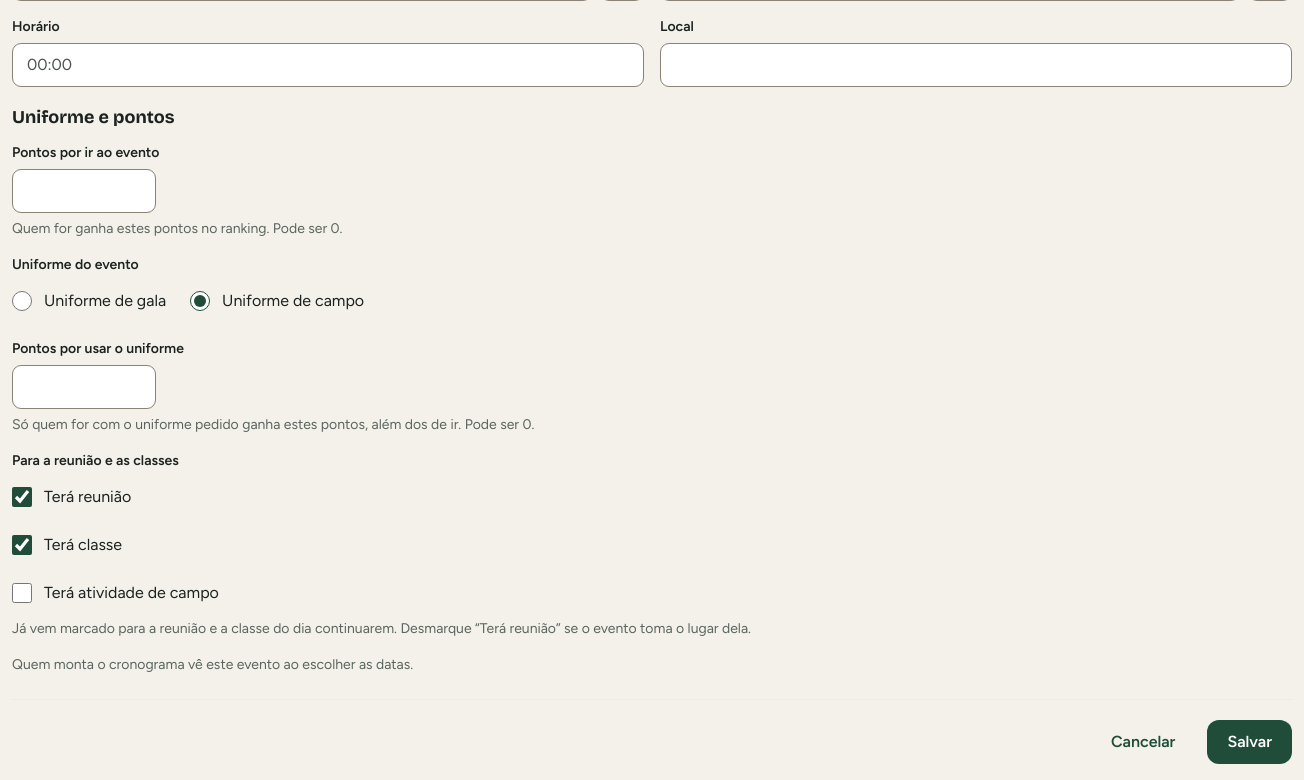
Evento especial · formulário novo › a frase do instrutor só aparece com “Terá classe” desmarcada
This screenshot has width=1304, height=780.
(page scrolled)
Click the checkbox labelled "Terá classe": (22,545) [12,535,32,555]
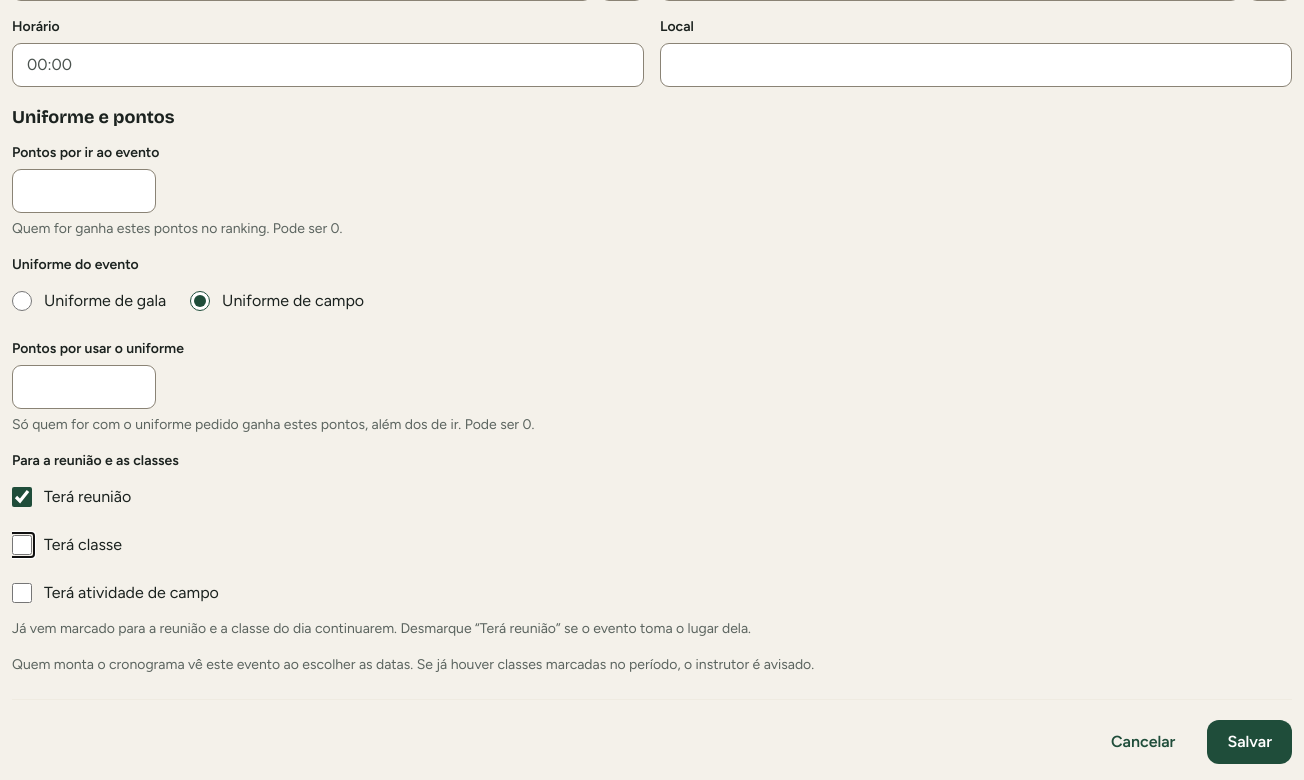
Expected: the text "Se já houver classes marcadas no período, o instrutor é avisado." is shown, [12,656,814,673]
Click the checkbox labelled "Terá classe": (22,545) [12,535,32,555]
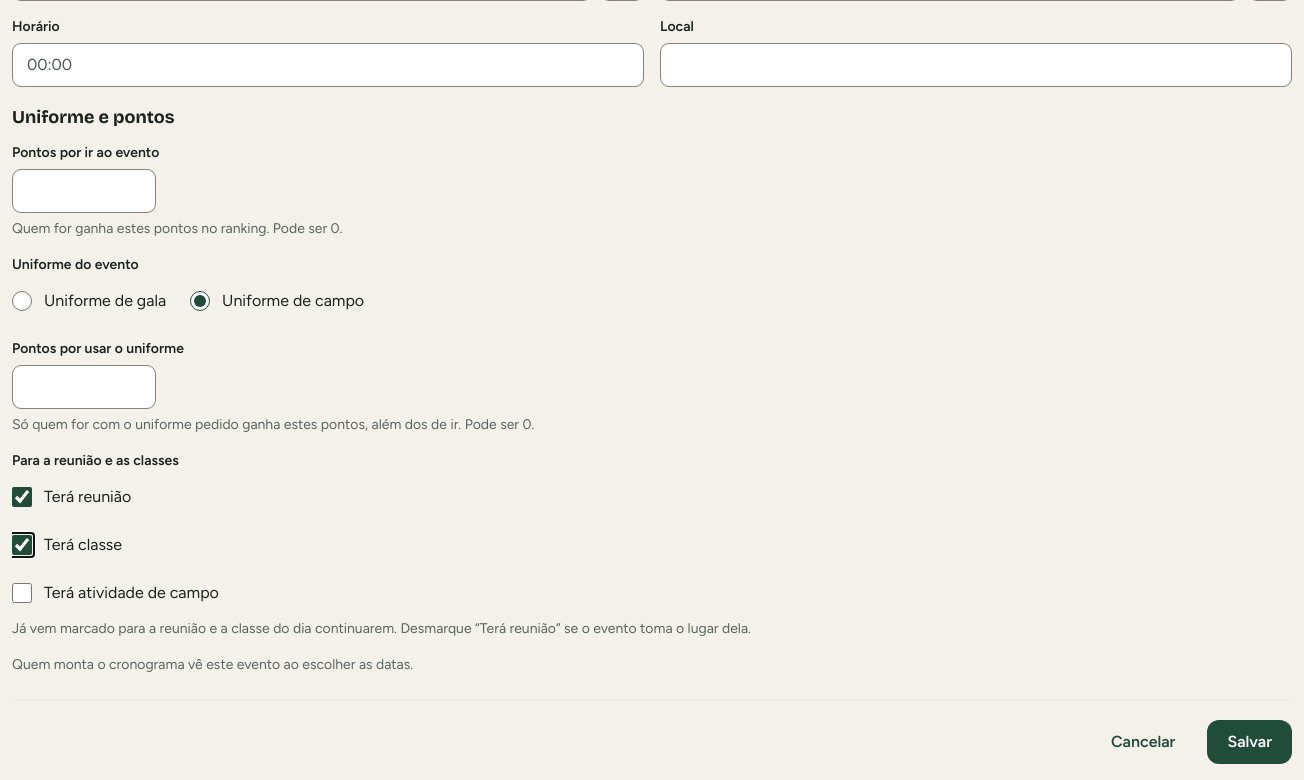
Expected: the text "Se já houver classes marcadas no período, o instrutor é avisado." is gone
